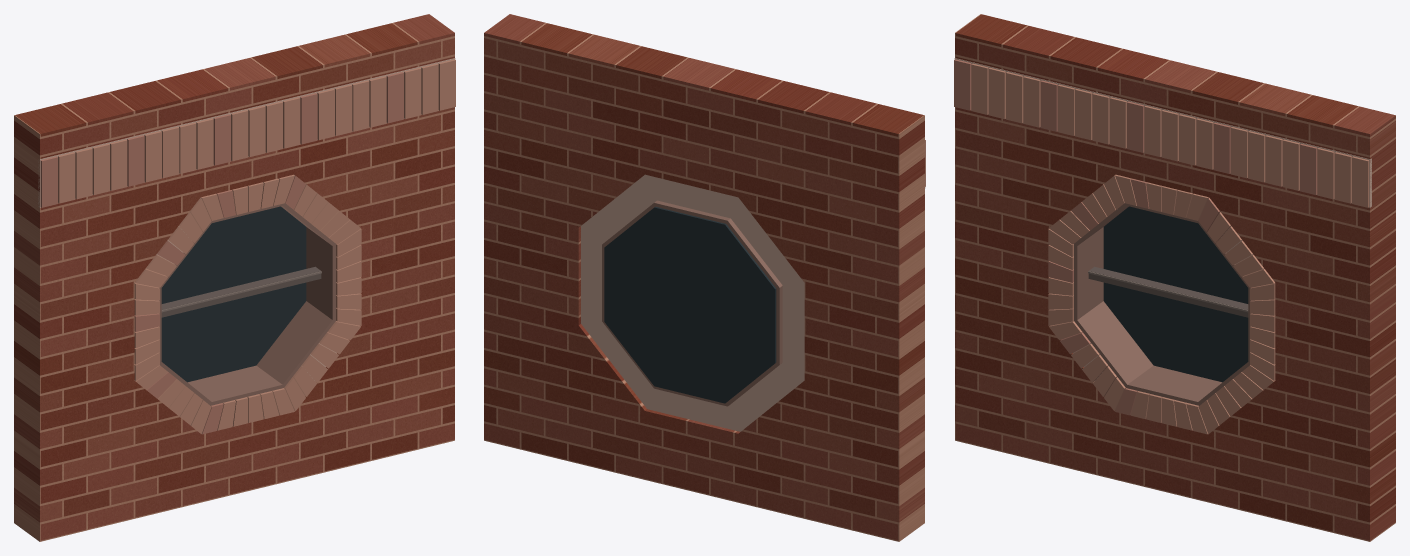
The model's file is wuyi-154-octagonal-brick-light-near.glb.
The picture shows the model from 3 angles, left to right: view 1: azimuth 30°, elevation 25°; view 2: azimuth 150°, elevation 25°; view 3: azimuth 330°, elevation 25°; orthographic projection.
Visible parts, largest first — view 1: 武夷路154号住宅山墙八角砖窗与横档; view 2: 武夷路154号住宅山墙八角砖窗与横档; view 3: 武夷路154号住宅山墙八角砖窗与横档.
Boxes of the visible parts, <box> form: 武夷路154号住宅山墙八角砖窗与横档: <box>14,14,455,541</box>; 武夷路154号住宅山墙八角砖窗与横档: <box>484,14,925,541</box>; 武夷路154号住宅山墙八角砖窗与横档: <box>954,14,1395,541</box>.
Size of the model in its own units: 2.6 by 2.44 by 0.318.
Materials: 8 (1 with a texture image).
